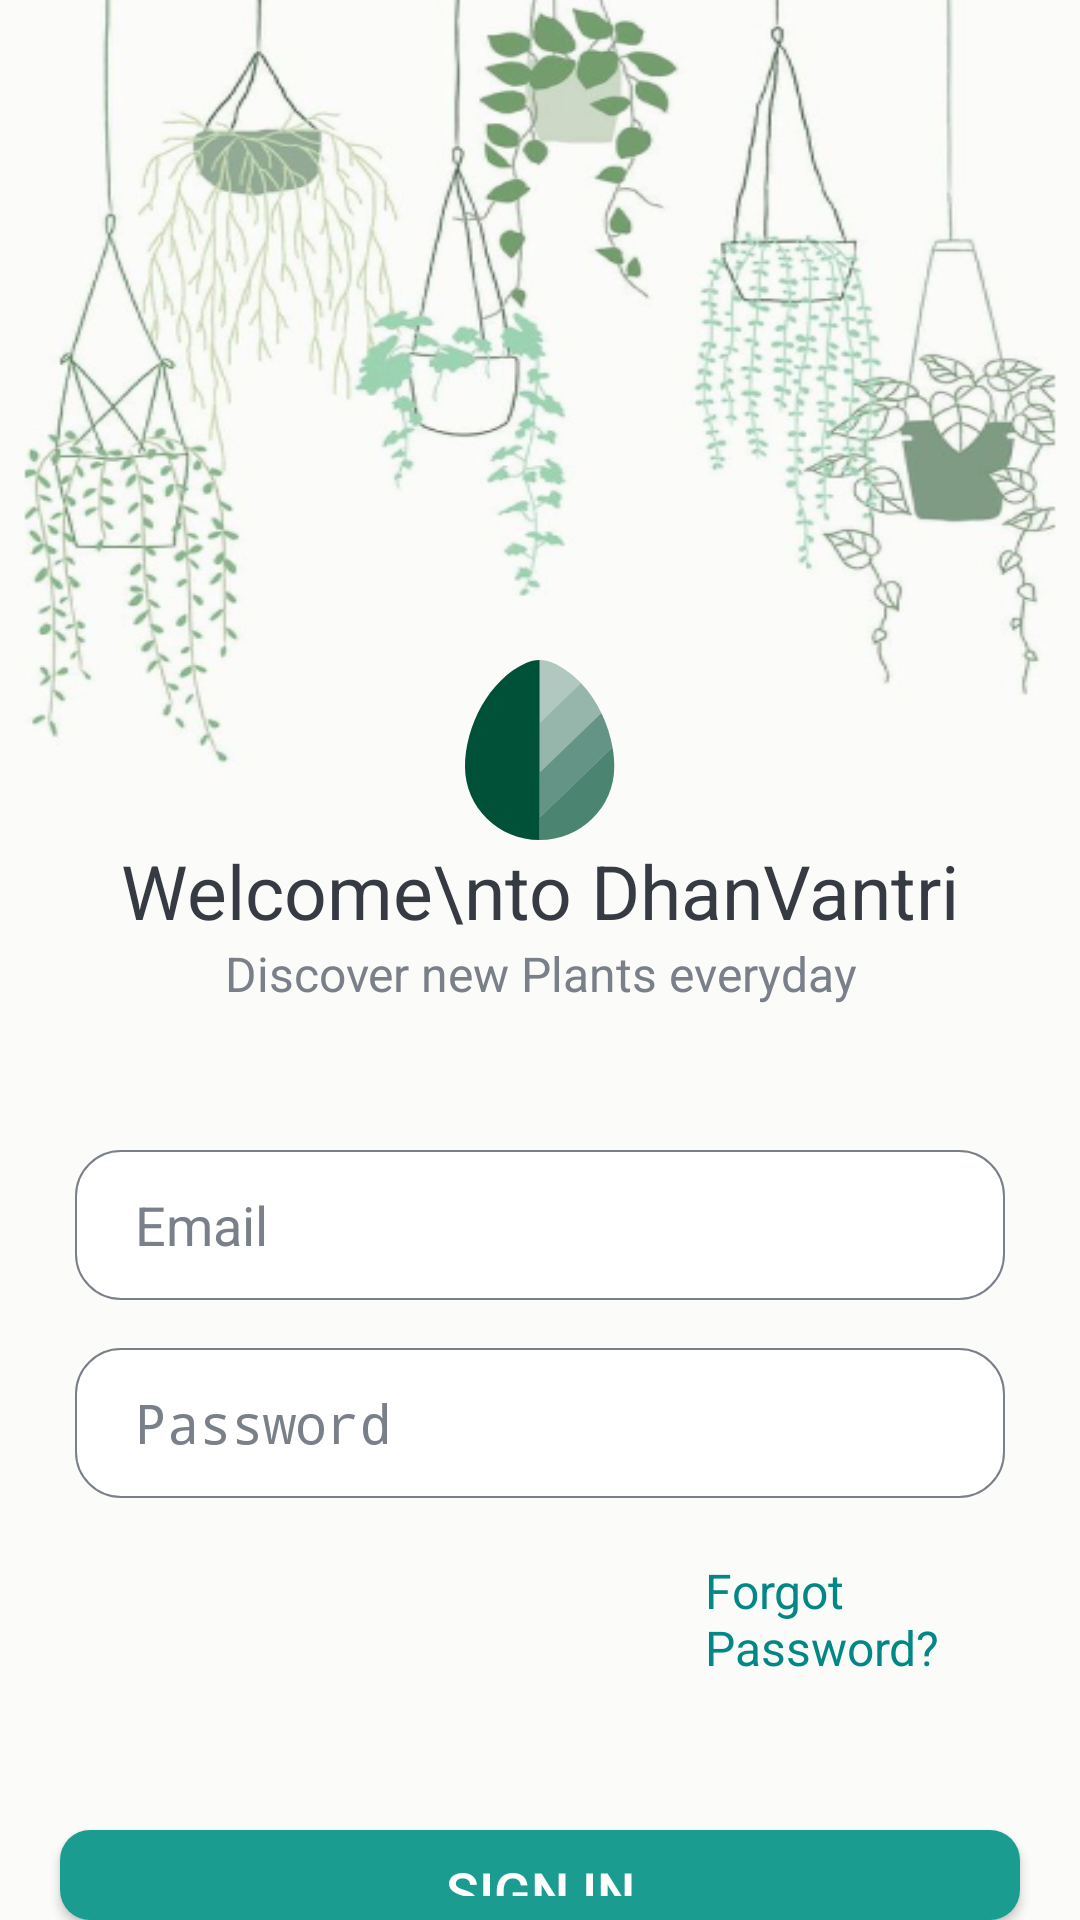

Screen size 1080w x 1920h. Icon name, then its box in pixels as [x1,y1,x2,y2]:
singleleaf: [465,660,615,840]
